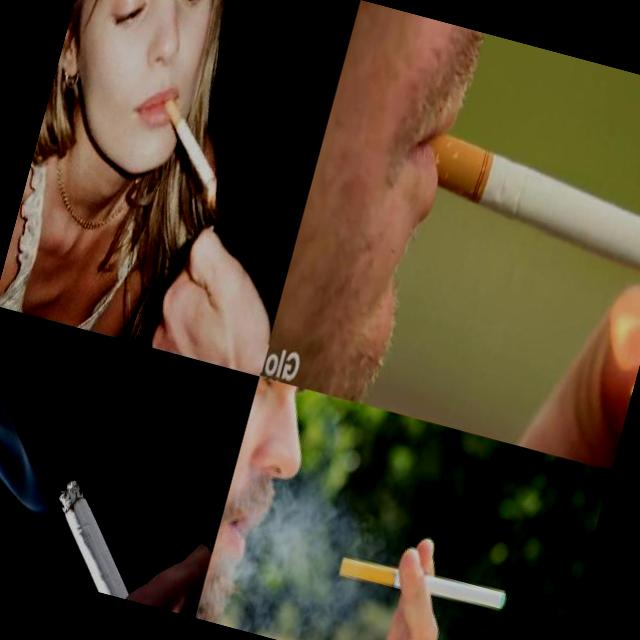smoke: (395, 123, 640, 279), (36, 474, 221, 616), (337, 546, 508, 618), (148, 98, 230, 186)
